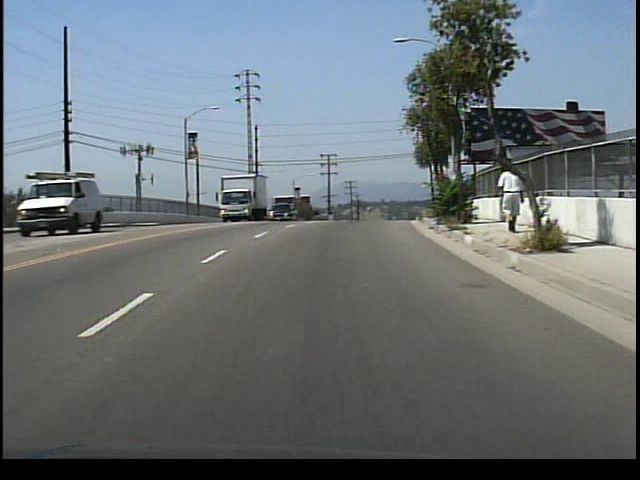person: (496, 172, 526, 237)
